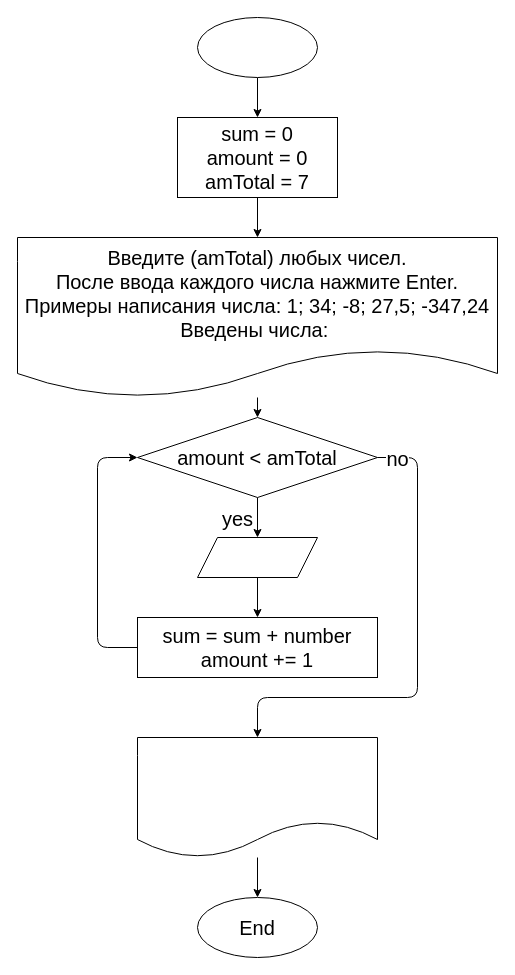
Some shapes in this 515 by 975 pixel diagram are drawn without their labels. The box of each missing label's shape, as (x1, y1, x2, y2) in pixels:
number: (196, 536, 318, 578)
Start: (196, 16, 318, 78)
Среднее арифметическое этих чисел: (sum / amTotal): (136, 736, 378, 858)
